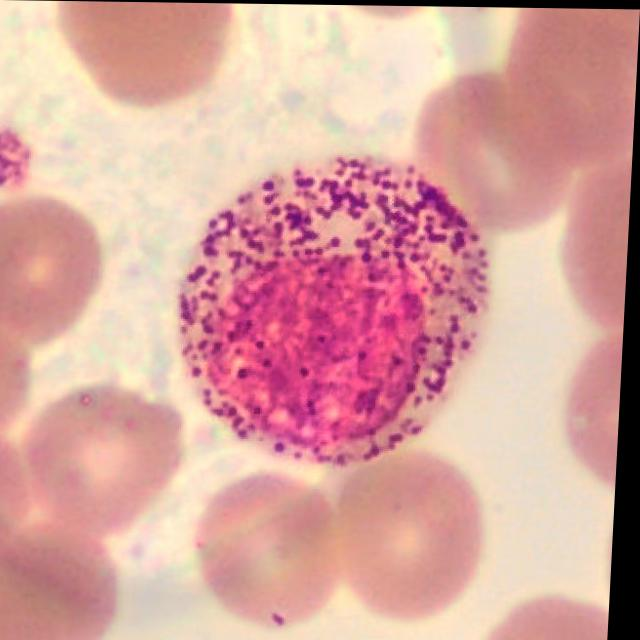Promielocito: (182, 157, 493, 466)
